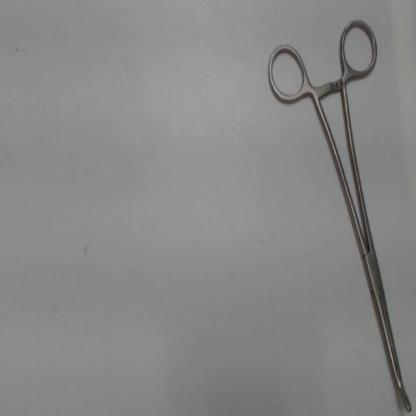Lahey Forceps: (260, 12, 414, 413)
